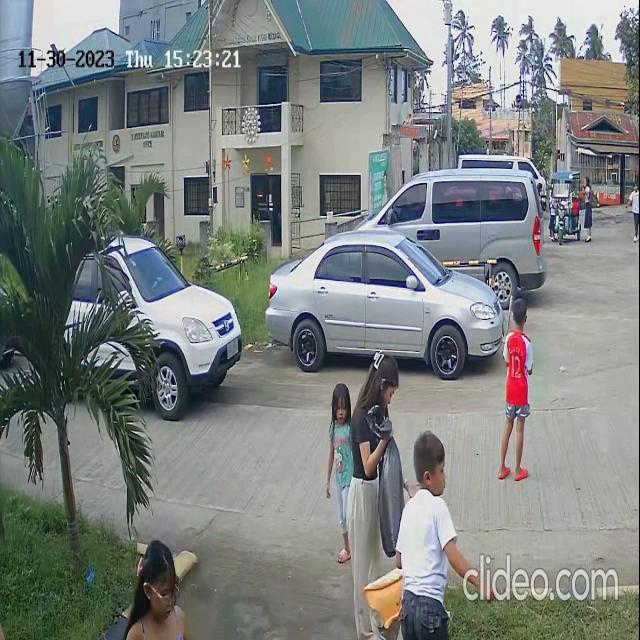garbage: (370, 407, 407, 562)
person: (412, 429, 453, 590), (133, 537, 183, 640), (355, 340, 396, 450), (503, 297, 531, 398), (328, 371, 353, 478)
